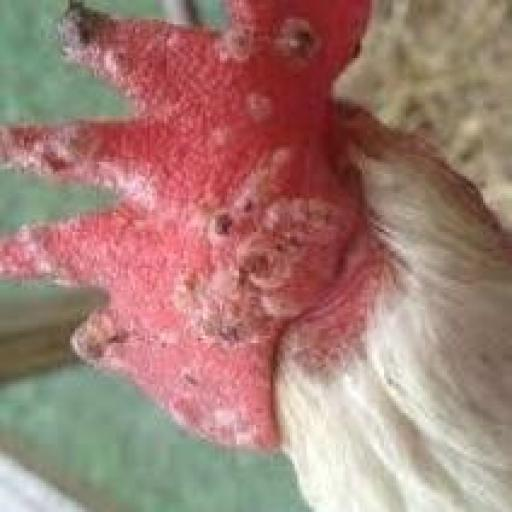disease: (158, 75, 370, 360), (154, 372, 292, 456), (45, 6, 200, 80), (10, 120, 149, 193), (9, 218, 126, 284), (202, 17, 339, 73), (74, 316, 135, 375)
